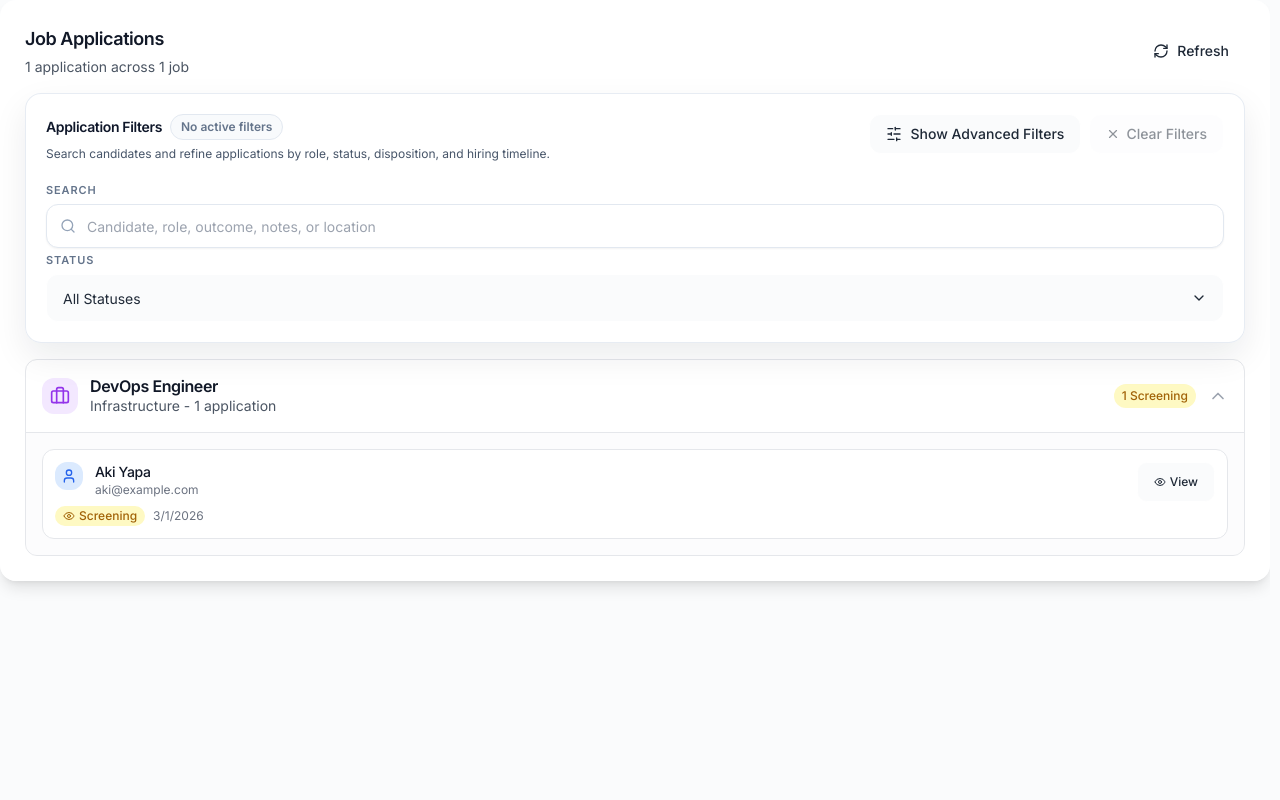
Test case: ApplicationsManager role experience › keeps recruiter status controls available in application details
Expected: the heading "Job Applications" is shown, [25,28,164,49]
Click the button "View". click: (1176, 482)
box: [1137,462,1215,502]
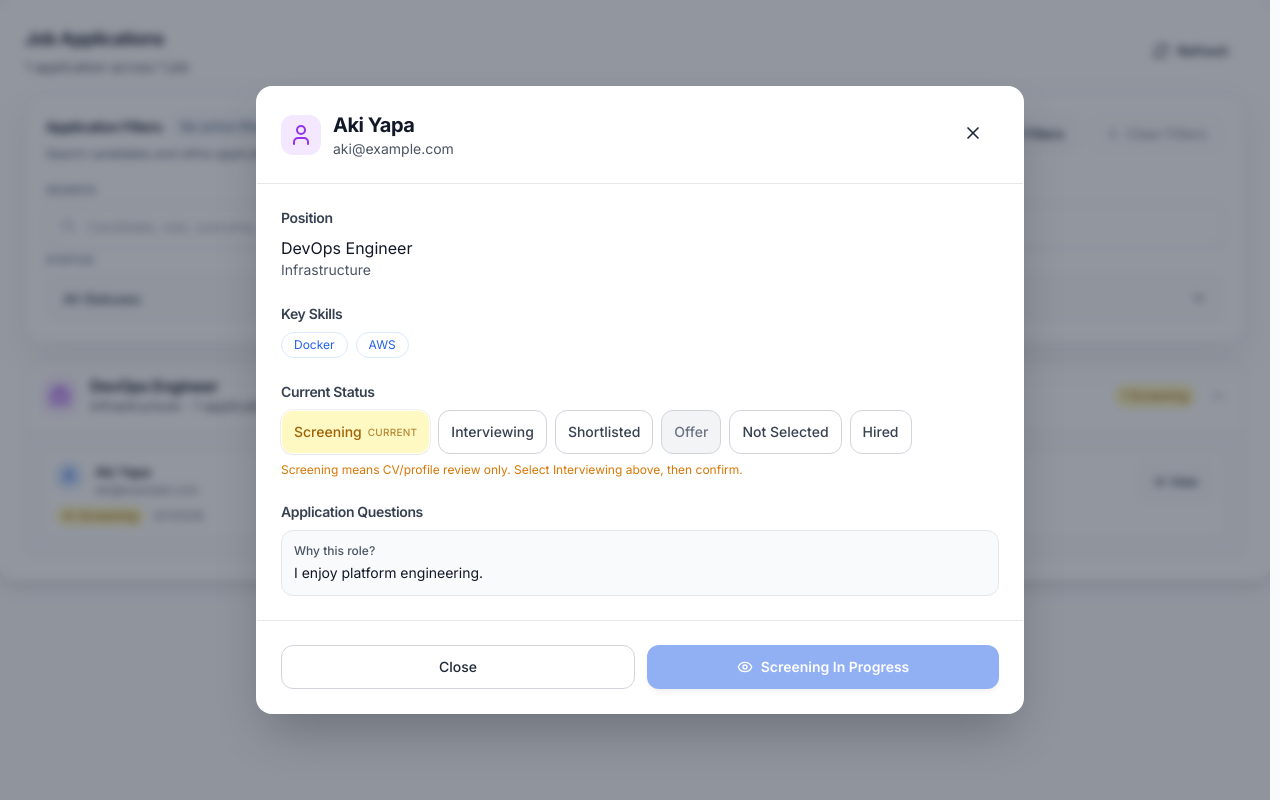
Expected: the heading "Current Status" is shown, [281,383,375,400]
Expected: the button named "screeningcurrent" is shown, [281,410,430,454]
Expected: the button "Interviewing" is shown, [438,410,547,454]
